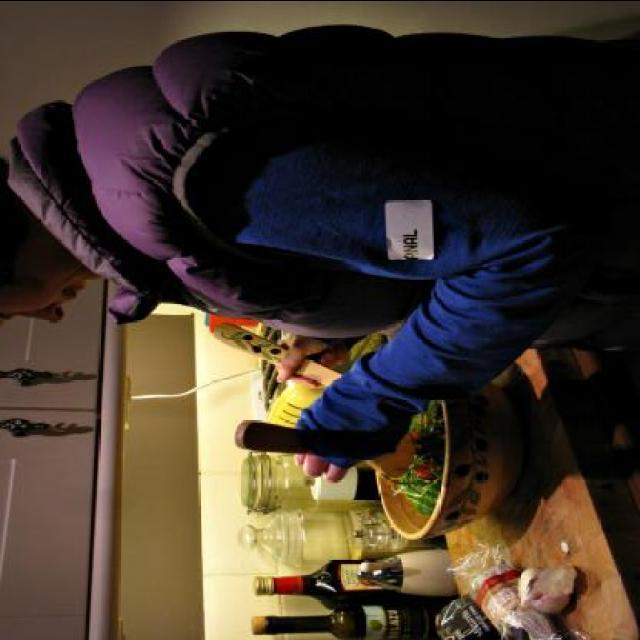Salad: (385, 393, 447, 516)
